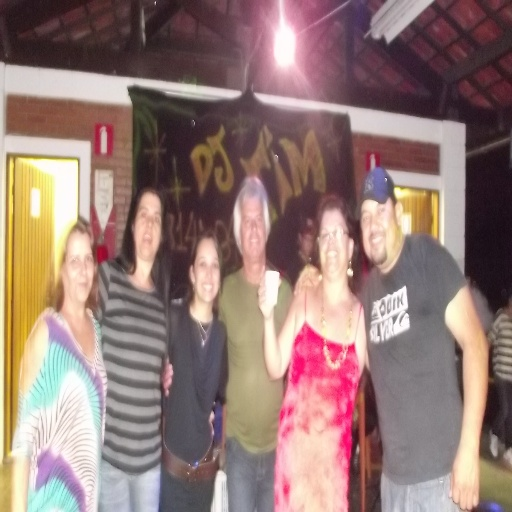hand: (453, 414, 485, 505), (256, 273, 281, 320), (292, 266, 320, 293), (161, 356, 173, 399)
